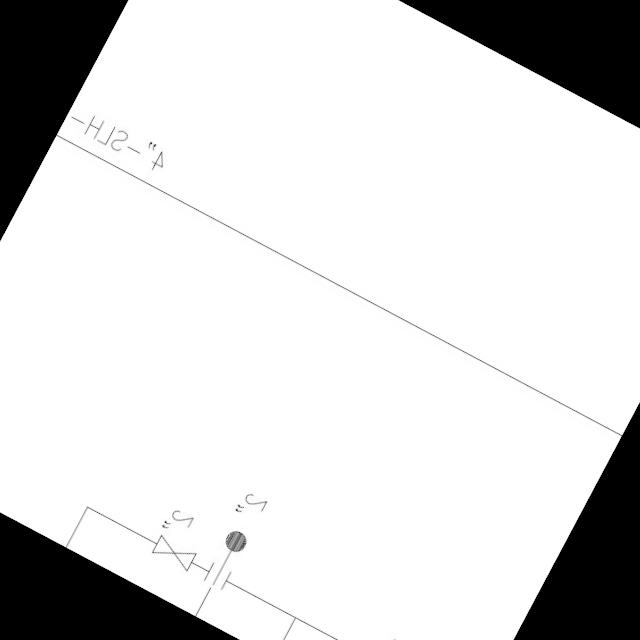GV: (144, 526, 204, 576)
